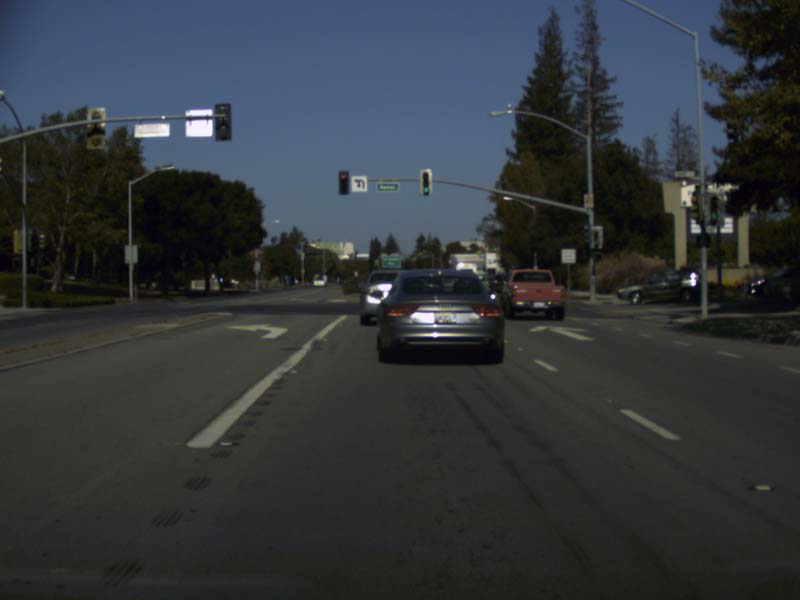Green: (420, 169, 432, 195), (590, 225, 602, 248), (710, 195, 717, 224)
Red: (339, 171, 348, 193)
